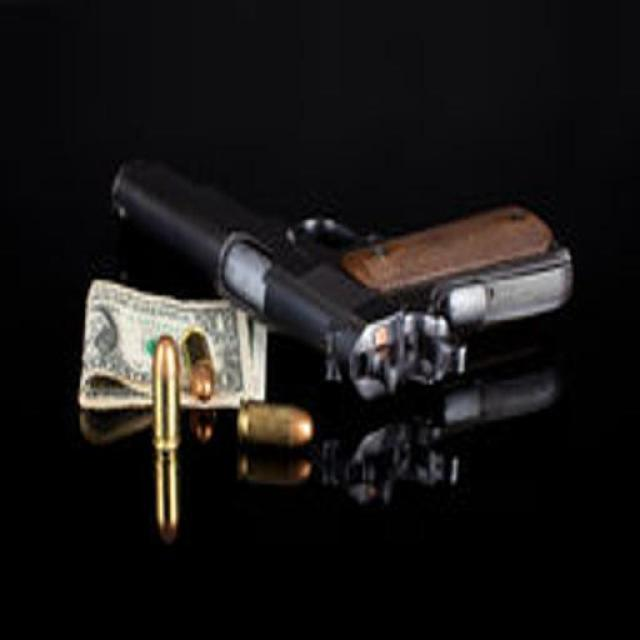pistol: (106, 155, 577, 395)
